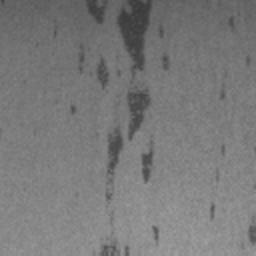Red iron sheet: (51, 0, 170, 256), (227, 15, 252, 68), (248, 224, 256, 243), (218, 90, 227, 102), (220, 143, 227, 156), (210, 202, 215, 219)
